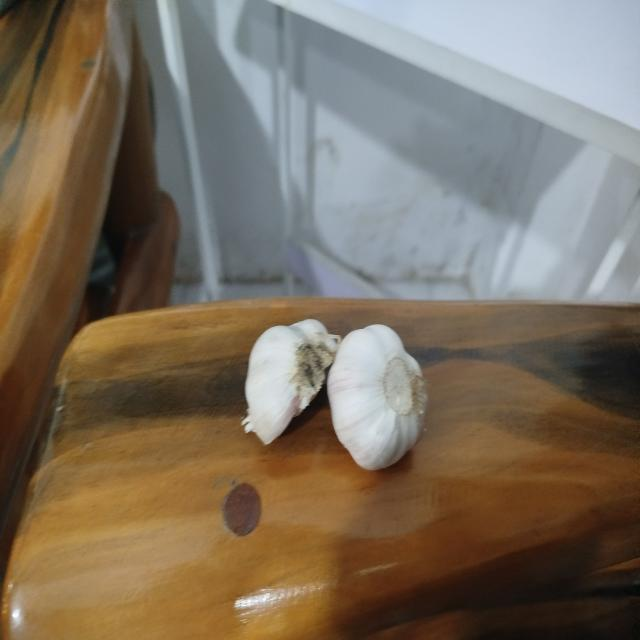garlic: (327, 323, 428, 471), (240, 318, 342, 446)
